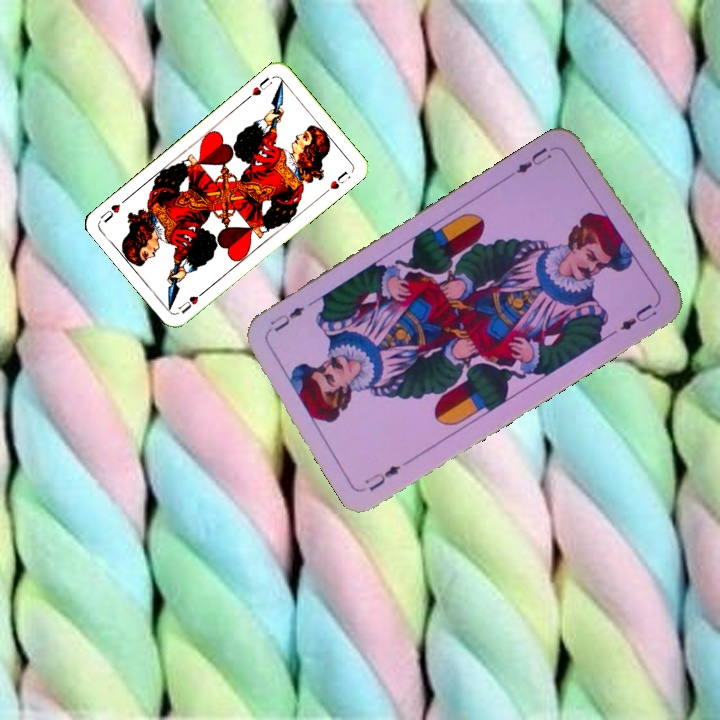EU: (512, 141, 562, 176), (361, 461, 404, 494)
HU: (174, 286, 208, 316), (242, 73, 275, 103)
